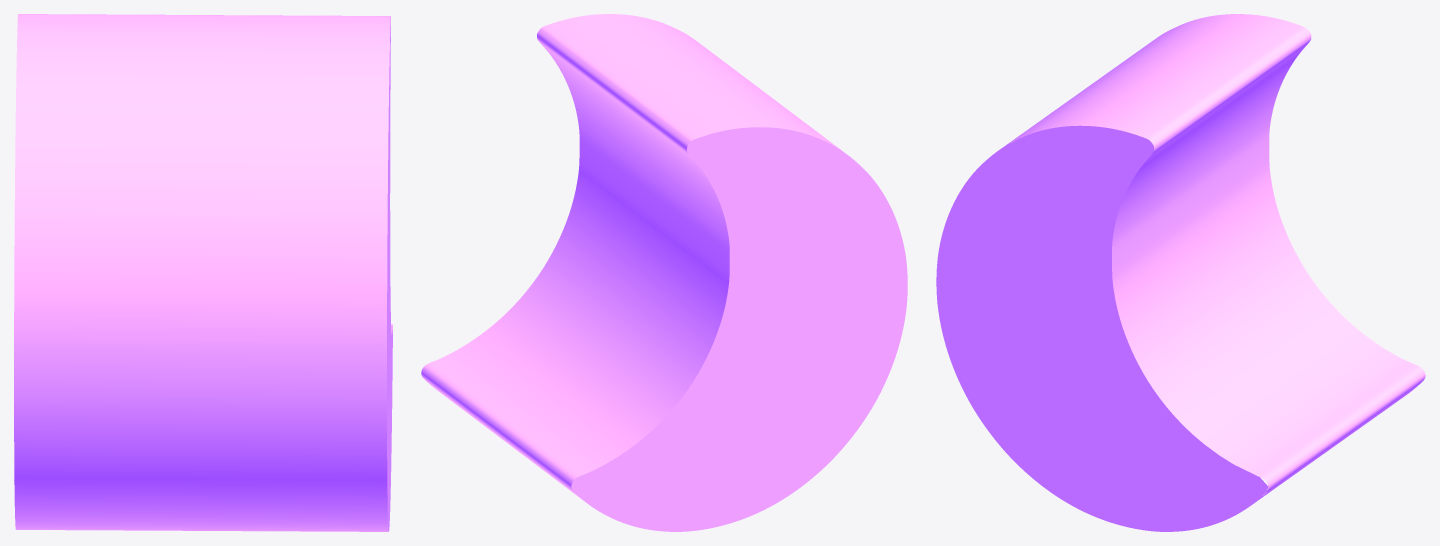
The model's file is clearNight.gltf.
The picture shows the model from 3 angles, left to right: view 1: azimuth 30°, elevation 25°; view 2: azimuth 150°, elevation 25°; view 3: azimuth 270°, elevation 25°; orthographic projection. The views are drawn at different scales.
Parts seen in each view (by area): view 1: path119.001; view 2: path119.001; view 3: path119.001.
Boxes of the visible parts, x1,y1,x2,y2 form: path119.001: (14,14,392,531); path119.001: (421,14,907,531); path119.001: (936,14,1425,531).
Size of the model in its own units: 4.64 by 4.38 by 4.92.
